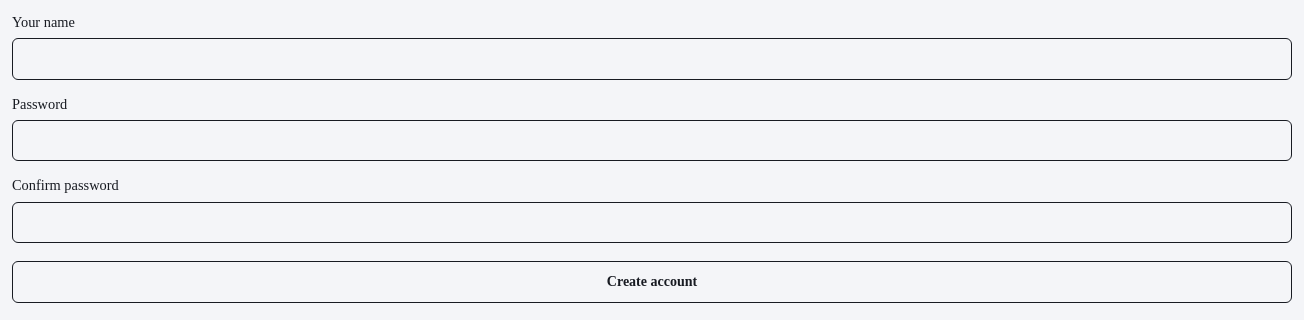
Test case: RedeemForm posts to the redeem endpoint and routes to /portal on 200
Type "Chris" into the field labelled "Your name" at (652, 59), box top-left (12, 38), bottom-right (1292, 80)
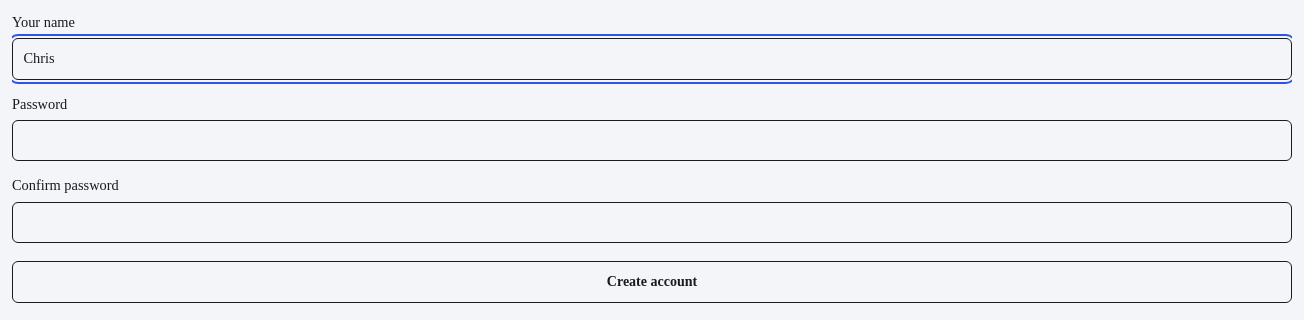
Type "redfield12345" into the password field labelled "Password" at (652, 141), box top-left (12, 120), bottom-right (1292, 161)
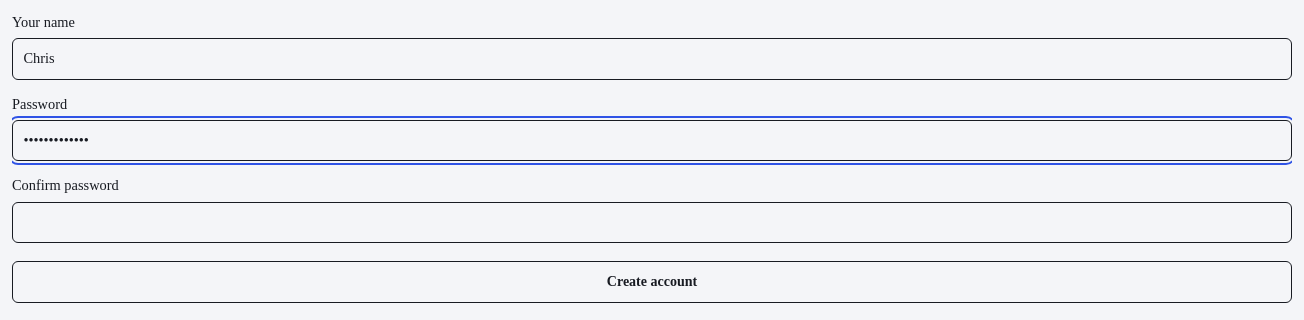
Type "redfield12345" into the password field labelled "Confirm password" at (652, 222), box top-left (12, 202), bottom-right (1292, 243)
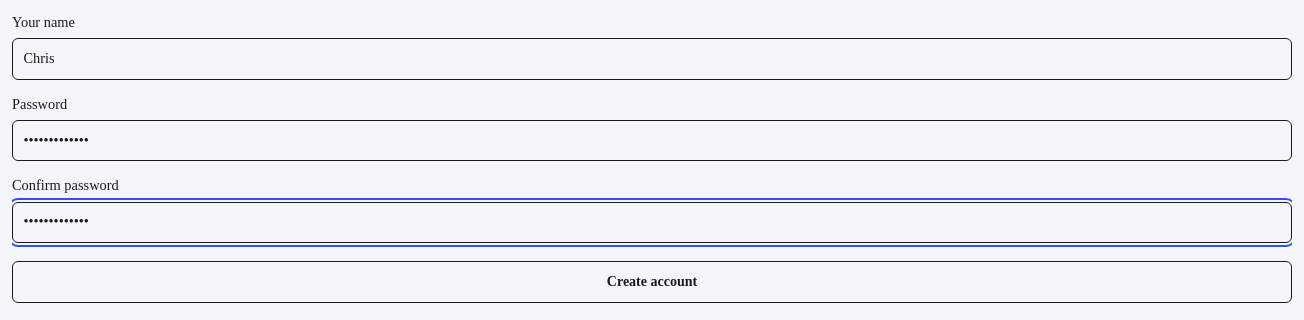
Click the button at (652, 282), box top-left (12, 261), bottom-right (1292, 303)
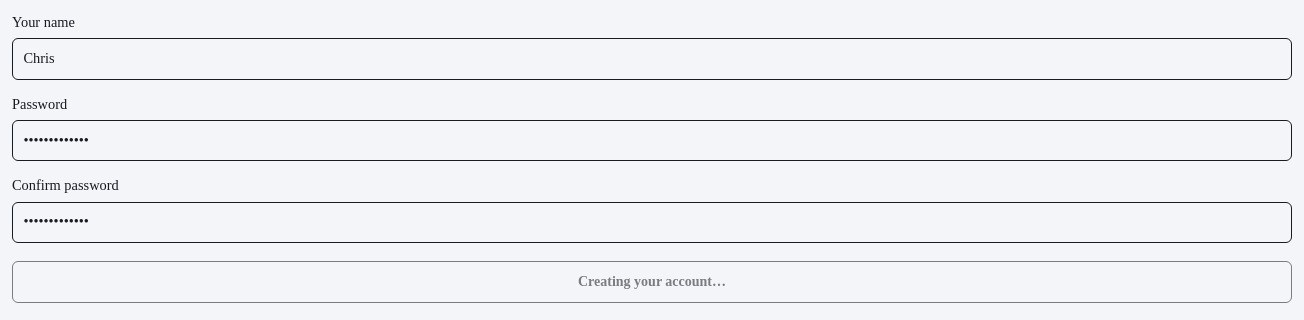
Expected: the button is disabled, top-left (12, 261), bottom-right (1292, 303)
